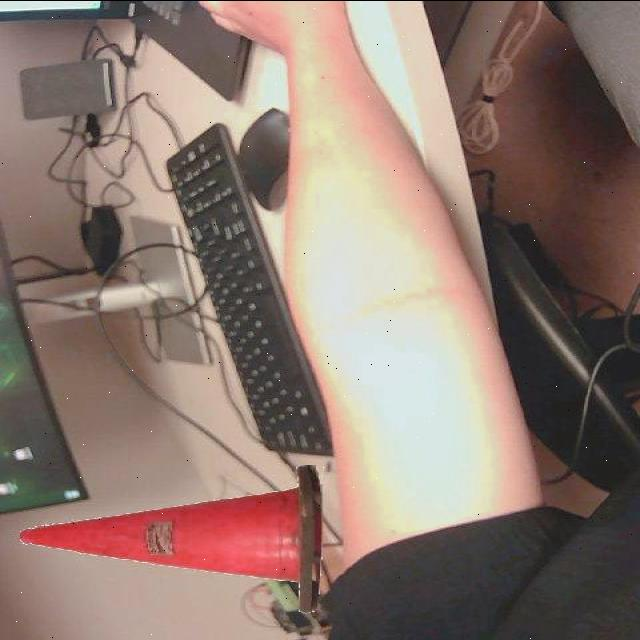traffic cone: (15, 459, 333, 622)
